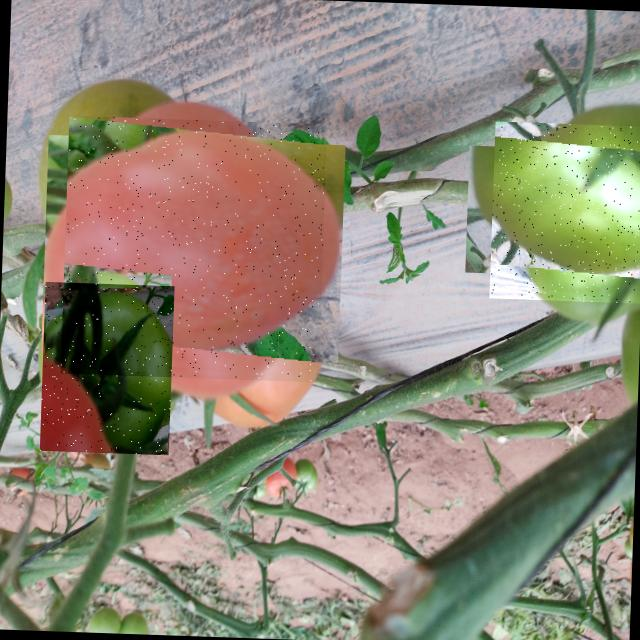Ripe Tomato: (60, 115, 327, 382)
Unripe Tomato: (489, 121, 640, 303), (39, 282, 174, 454)
